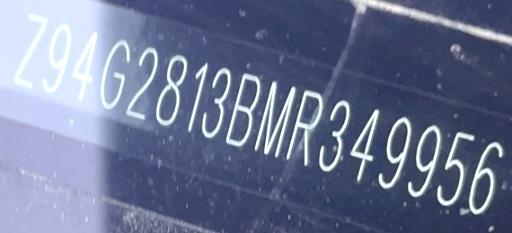letter: (253, 82, 297, 157), (284, 88, 326, 165), (405, 123, 443, 196), (437, 133, 475, 203), (124, 46, 160, 119), (468, 141, 504, 213), (14, 12, 48, 88), (376, 117, 412, 188), (226, 73, 260, 146), (318, 98, 350, 169), (156, 53, 188, 124), (72, 29, 102, 104), (42, 20, 72, 92), (102, 37, 132, 108), (350, 107, 378, 182), (202, 65, 230, 136), (186, 57, 210, 130)
